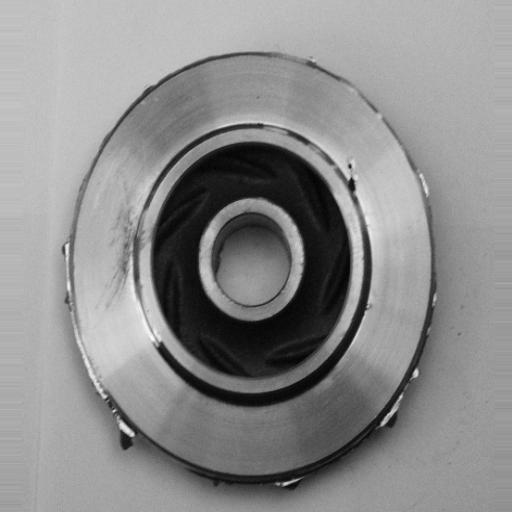casting_with_burr: (59, 47, 442, 494)
crack: (340, 149, 369, 217)
scratch: (137, 292, 172, 351)
stain: (103, 189, 156, 300)
